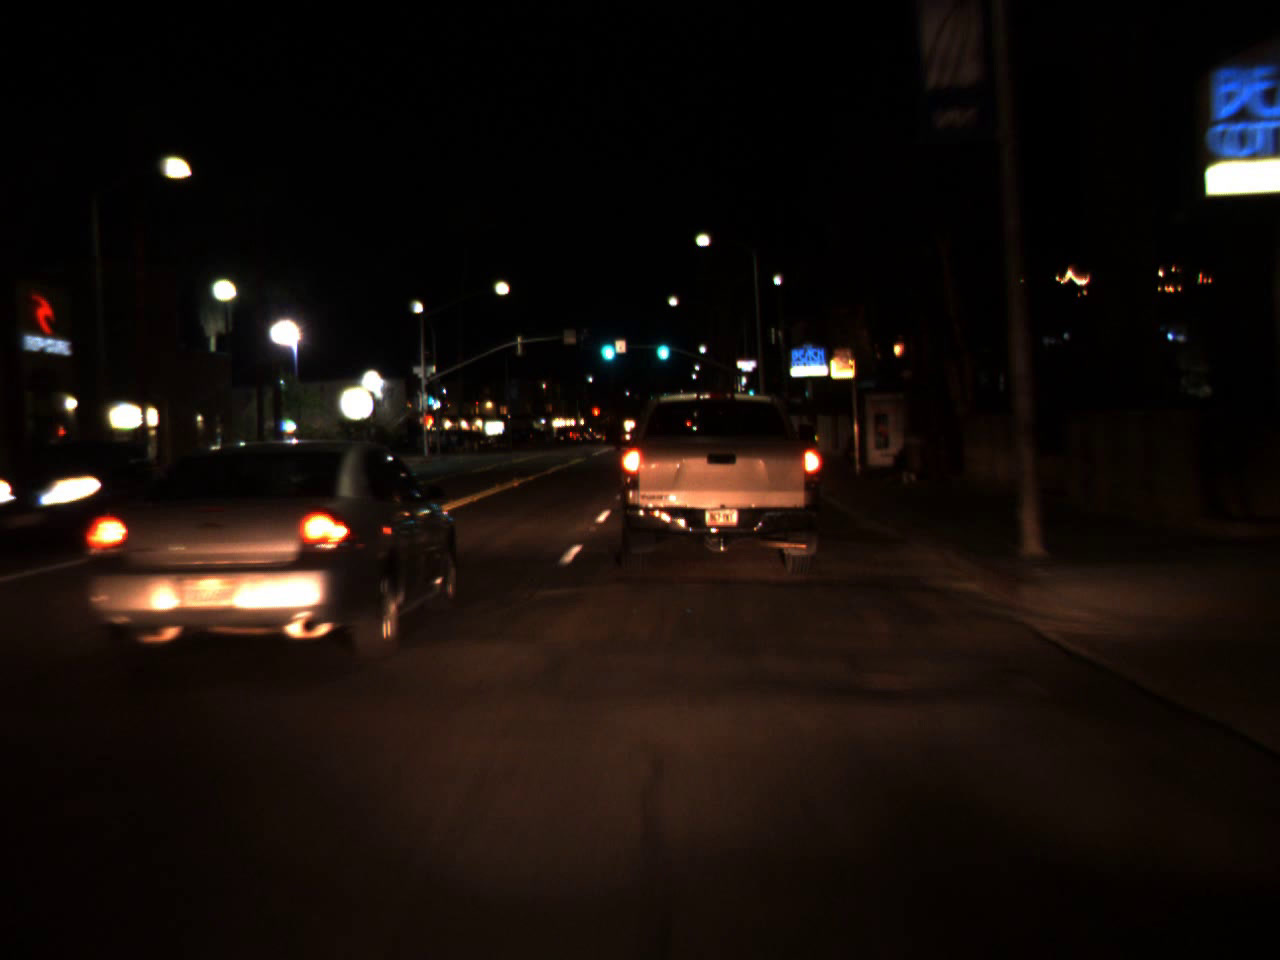go: (596, 326, 617, 365), (653, 326, 671, 365)
